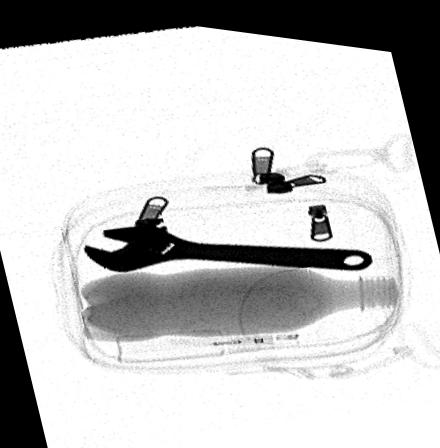Wrench: (81, 222, 373, 268)
